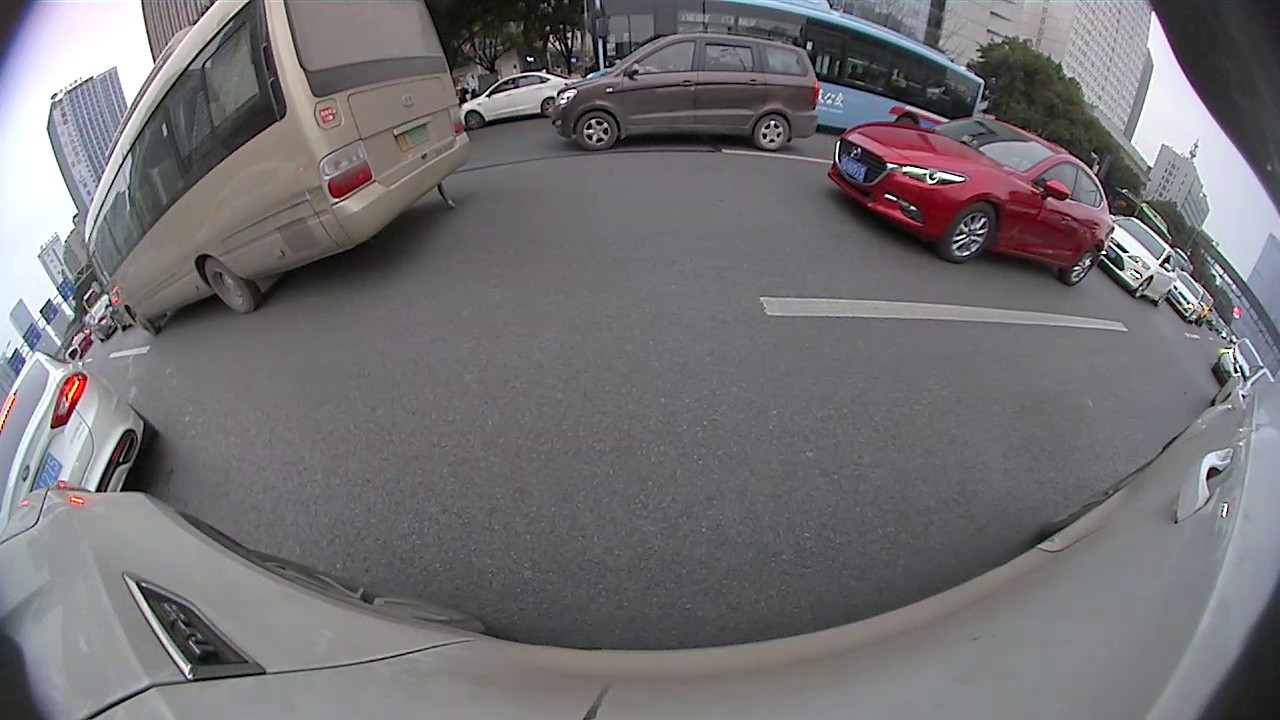bus: (86, 1, 470, 335), (585, 1, 1011, 129)
car: (827, 120, 1113, 287), (551, 34, 821, 150), (1, 350, 150, 527), (459, 69, 588, 126), (1107, 217, 1173, 305)
front: (944, 203, 1000, 265), (575, 109, 619, 150), (128, 303, 155, 338), (1134, 278, 1153, 299), (465, 110, 483, 130)
rear: (205, 256, 258, 315), (755, 112, 791, 152), (1065, 247, 1100, 285), (541, 98, 558, 116)
